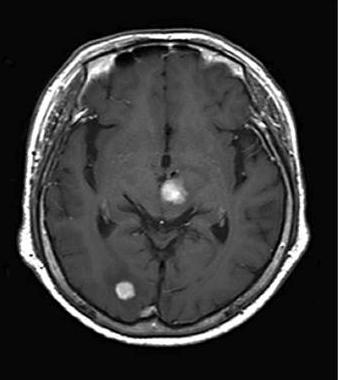Normal_Brain: (1, 1, 320, 372)
